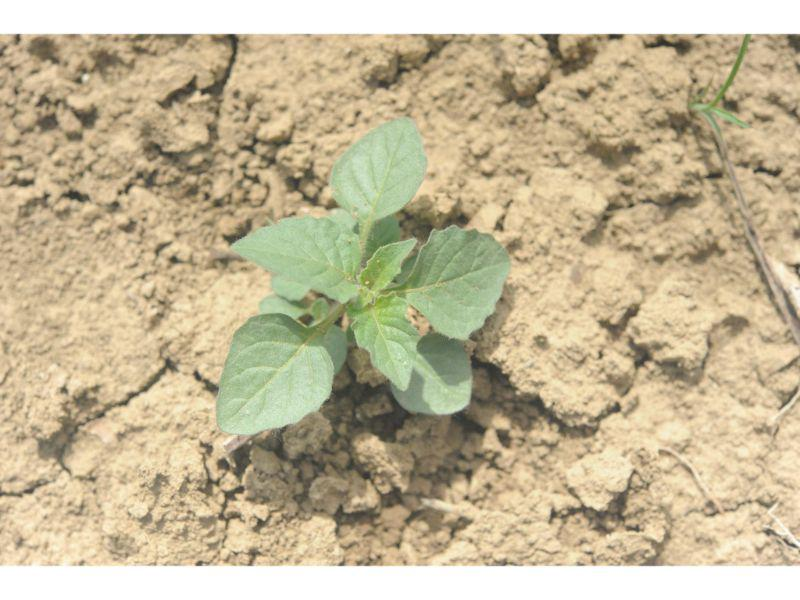nightshade: (217, 114, 508, 435)
